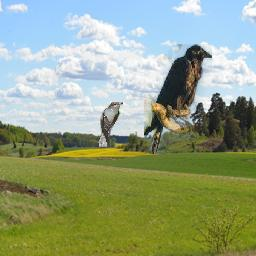Crow: (144, 44, 212, 154)
Cuckoo: (97, 101, 123, 147)
